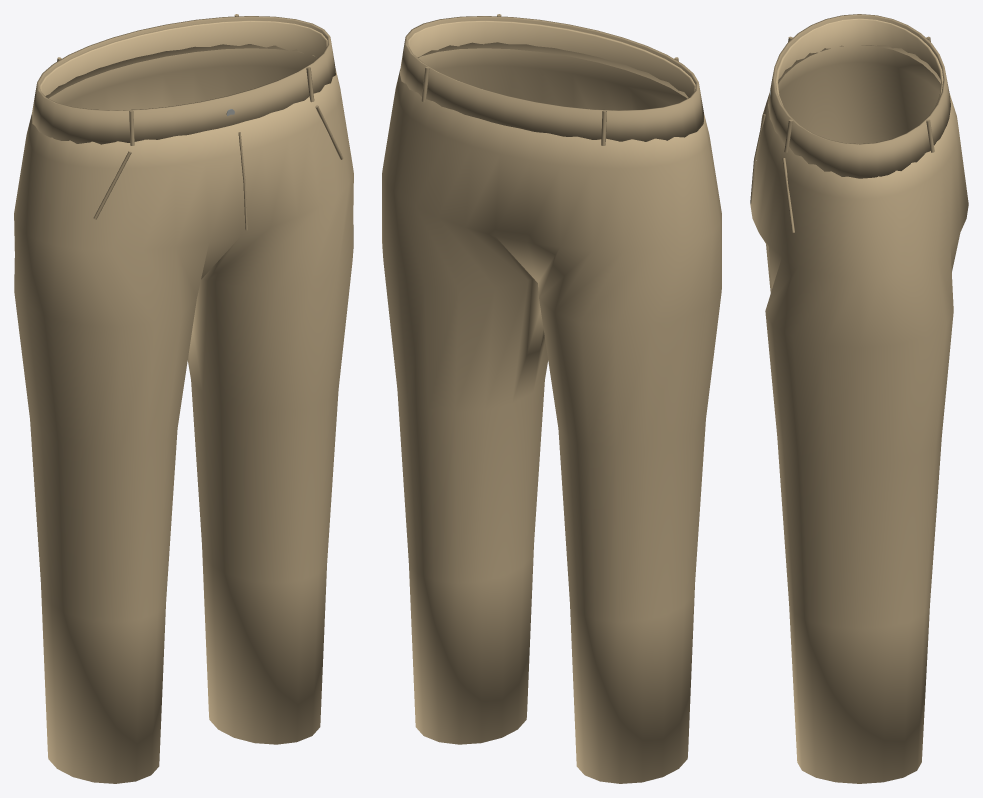
The model's file is pants_chinos.glb.
3 views of the same model, side by side, from view 1: azimuth 30°, elevation 25°; view 2: azimuth 150°, elevation 25°; view 3: azimuth 270°, elevation 25° (orthographic). The views are drawn at different scales.
Visible parts, largest first — view 1: Chinos_Connected_Hips_And_Legs, Chinos_Waistband; view 2: Chinos_Connected_Hips_And_Legs, Chinos_Waistband; view 3: Chinos_Connected_Hips_And_Legs, Chinos_Waistband.
Part boxes in pixels (bbox=[...]): Chinos_Connected_Hips_And_Legs: bbox=[14, 20, 353, 783]; Chinos_Waistband: bbox=[32, 16, 335, 144]; Chinos_Connected_Hips_And_Legs: bbox=[382, 20, 721, 783]; Chinos_Waistband: bbox=[400, 16, 703, 141]; Chinos_Connected_Hips_And_Legs: bbox=[750, 18, 968, 783]; Chinos_Waistband: bbox=[768, 14, 950, 178].
Size of the model in its own units: 0.4781 by 0.9615 by 0.2948.
